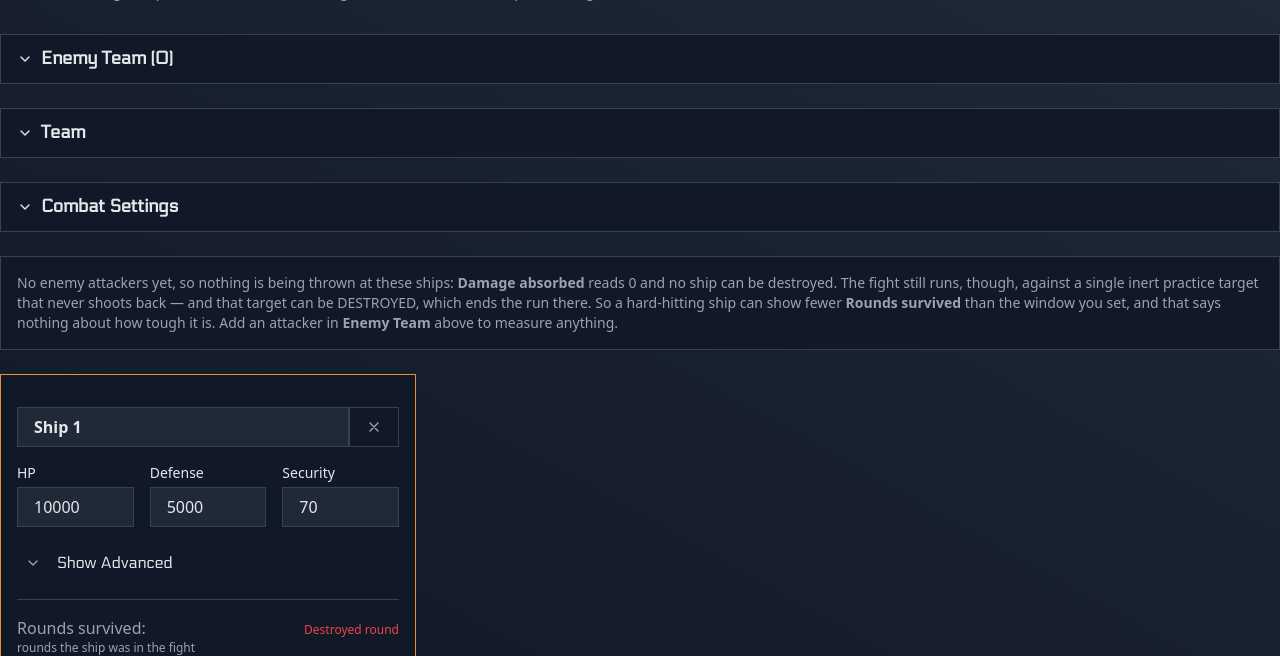
DefenseCalculatorPage › a blank config exposes editable skill slots
The width and height of the screenshot is (1280, 656).
Click the button "Show Advanced": (33, 563) [17,543,399,583]
(page scrolled)
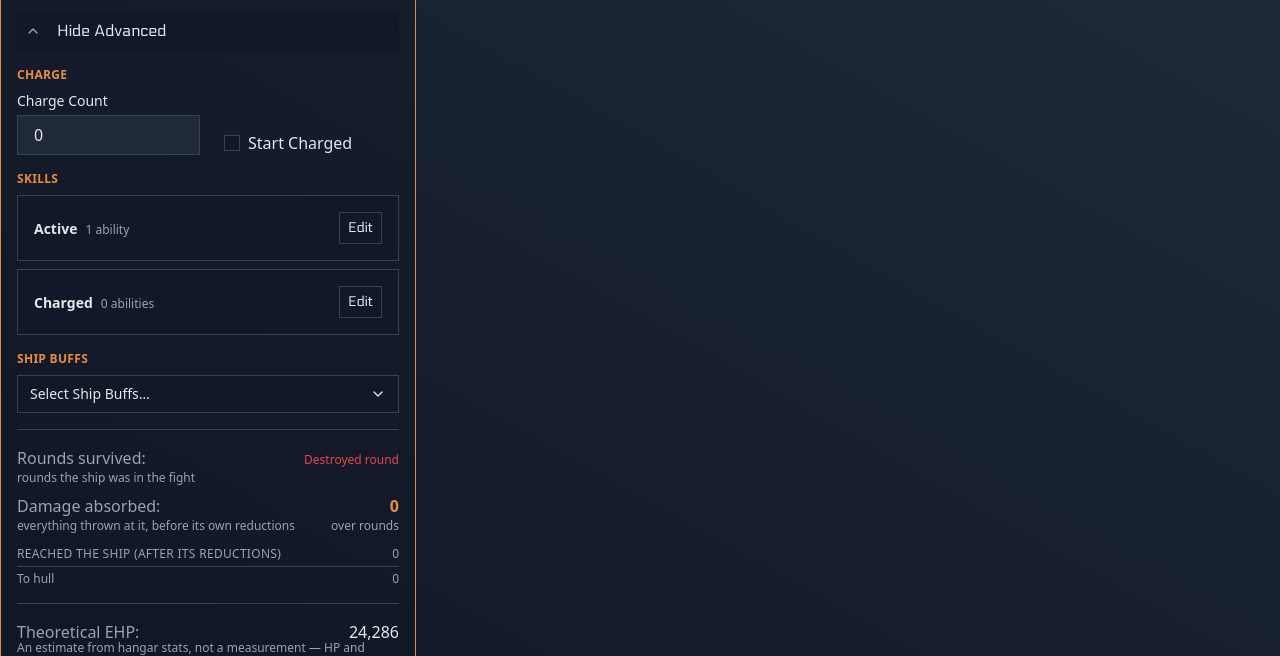
Expected: the text "Active" is shown, [34,219,78,238]
Expected: the text "Charged" is shown, [34,293,93,312]
